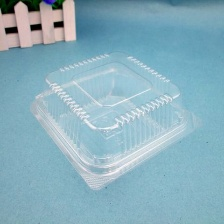plastic_box: (20, 41, 206, 198)
